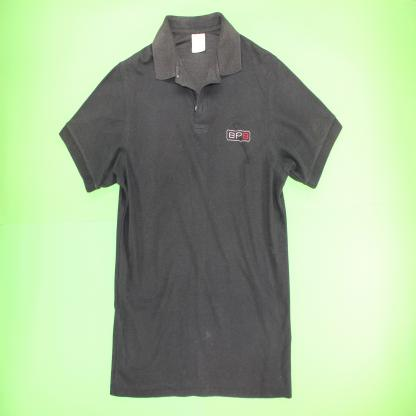hole: (231, 120, 251, 167)
